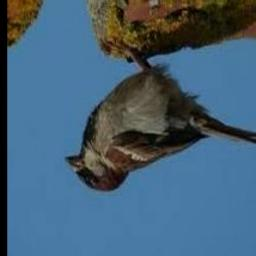Sparrow: (66, 40, 256, 192)
